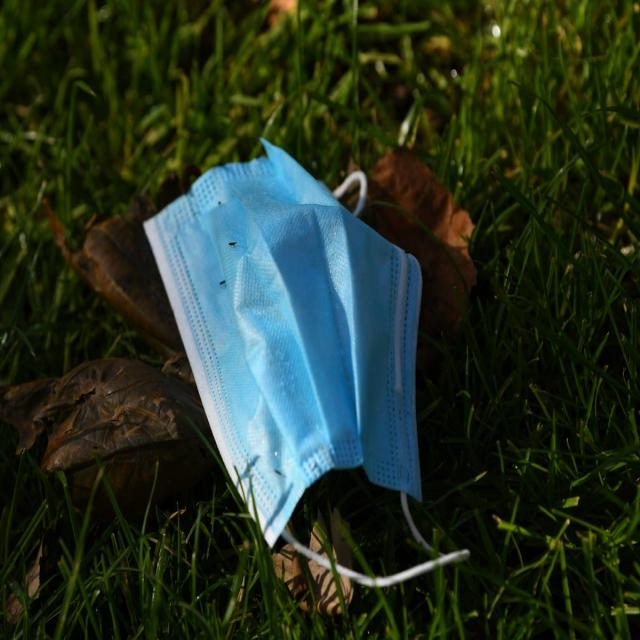non-organic waste: (142, 135, 468, 587)
